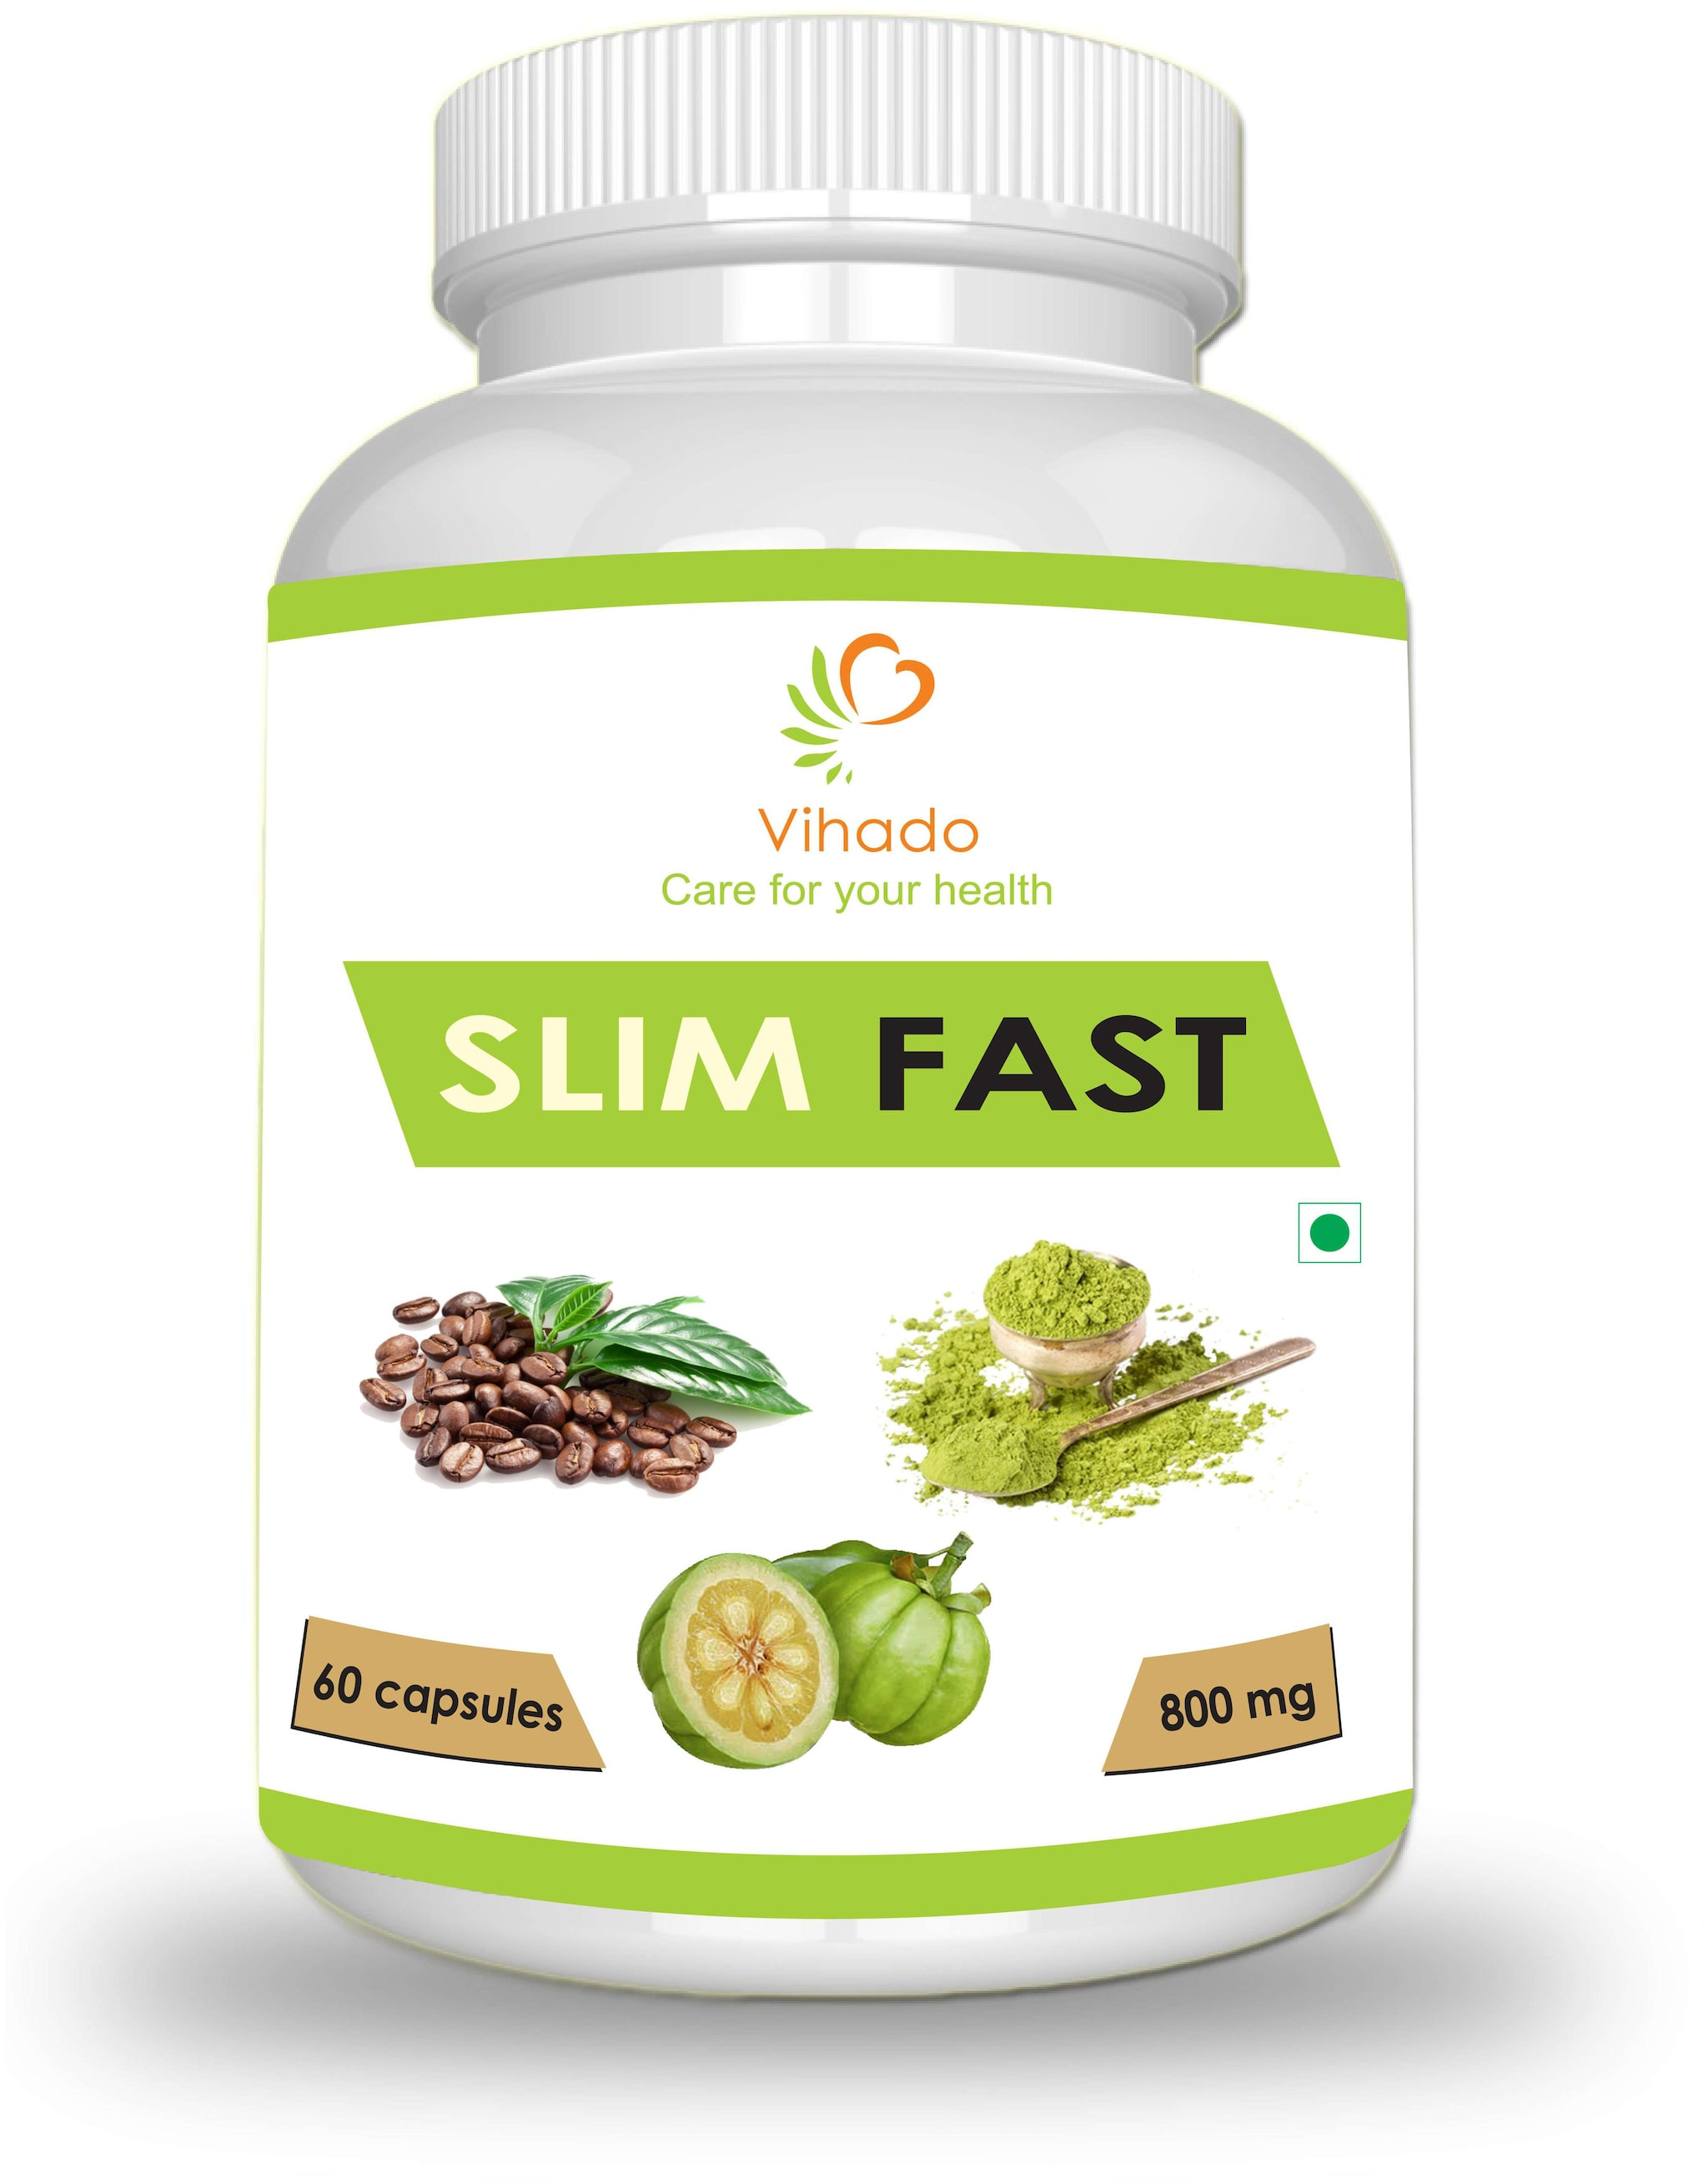JAR: (232, 14, 1435, 2023)
